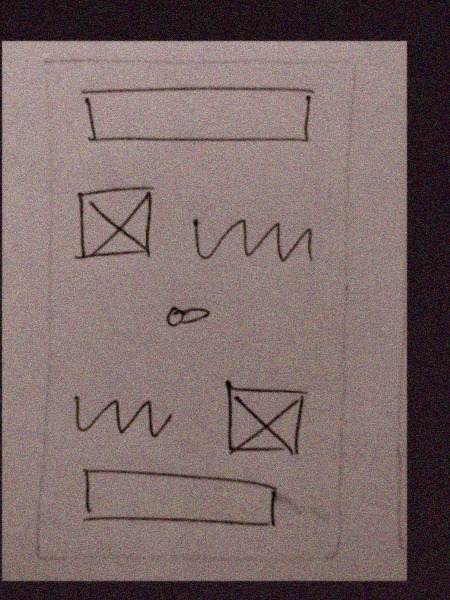image: (211, 373, 320, 470), (69, 180, 161, 268)
switch: (156, 292, 222, 337)
text: (184, 206, 319, 276), (67, 382, 181, 451)
text_input: (70, 463, 289, 538), (77, 84, 317, 148)
